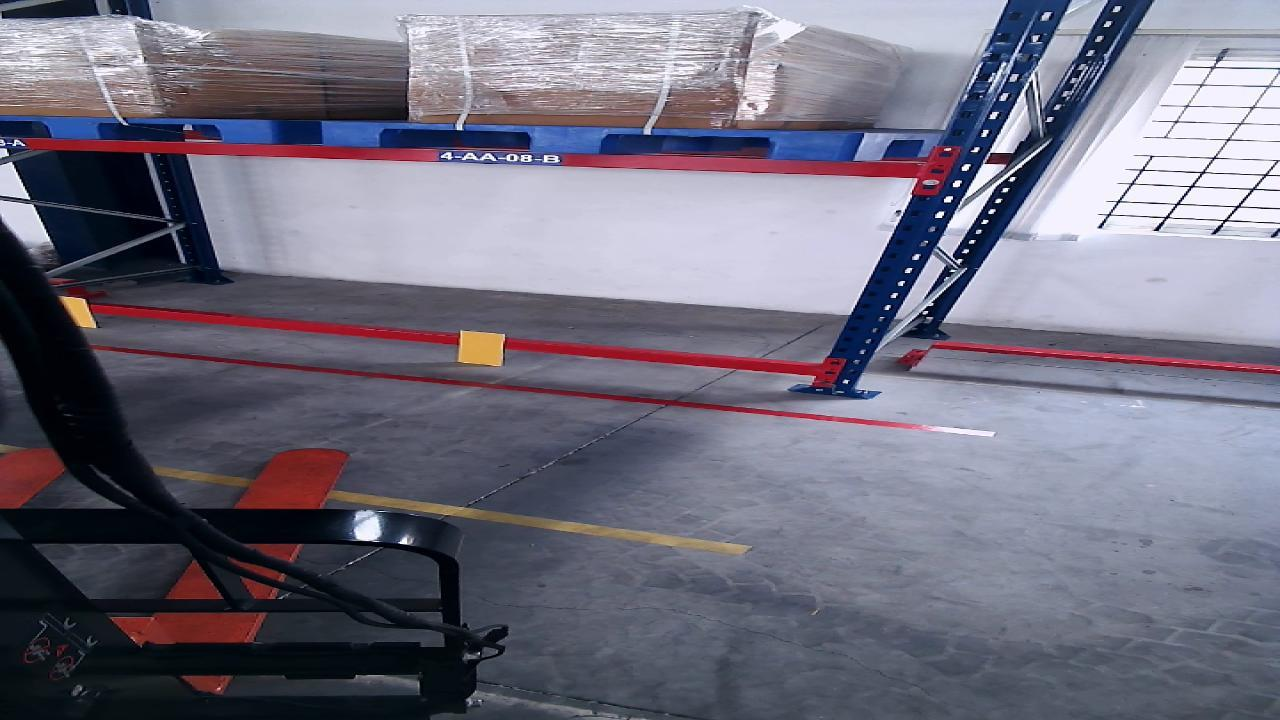h_rack: (93, 305, 813, 374), (1, 138, 920, 178)
orange_strip: (455, 331, 510, 366)
red_line: (90, 344, 990, 437)
small_pallet: (321, 121, 863, 161), (4, 117, 270, 143)
yellow_line: (0, 444, 747, 556)
